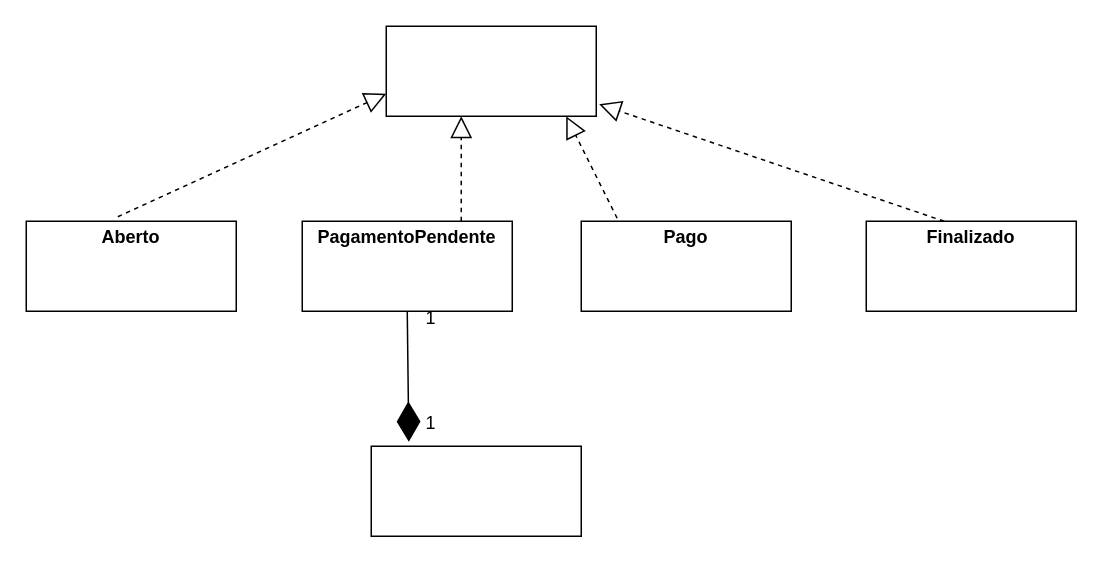
This 1103x563 diagram has some shape labels left out. The shapes that lost their labels are listed below. From the top down, each one's centre as x and y in pixels, then its label:
point 490,70: Estado compra
point 475,490: Compra
